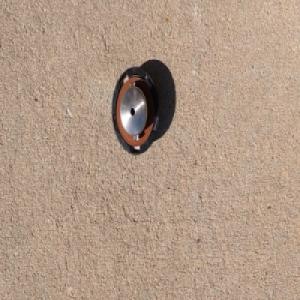FuelCap: (110, 65, 160, 158)
